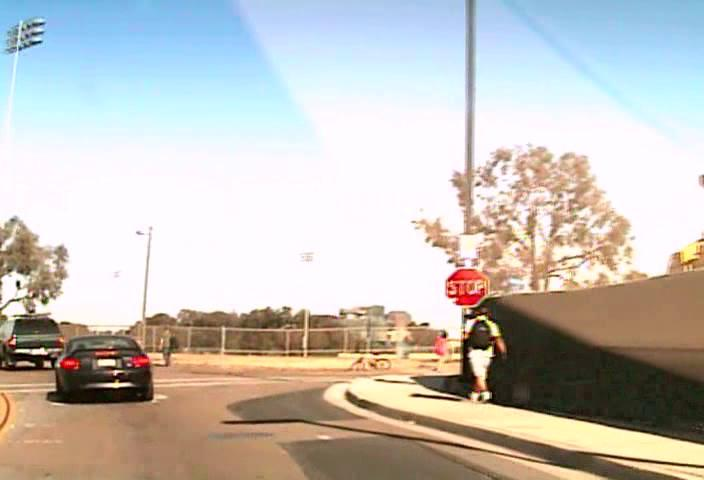stop: (445, 267, 489, 307)
